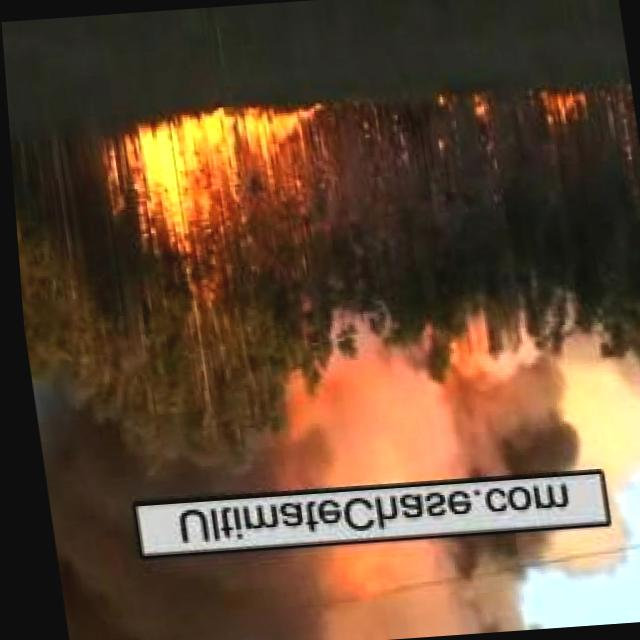Fire: (108, 101, 320, 234), (433, 89, 491, 134), (538, 93, 584, 122)
Smoke: (281, 305, 640, 487), (45, 518, 548, 640)
